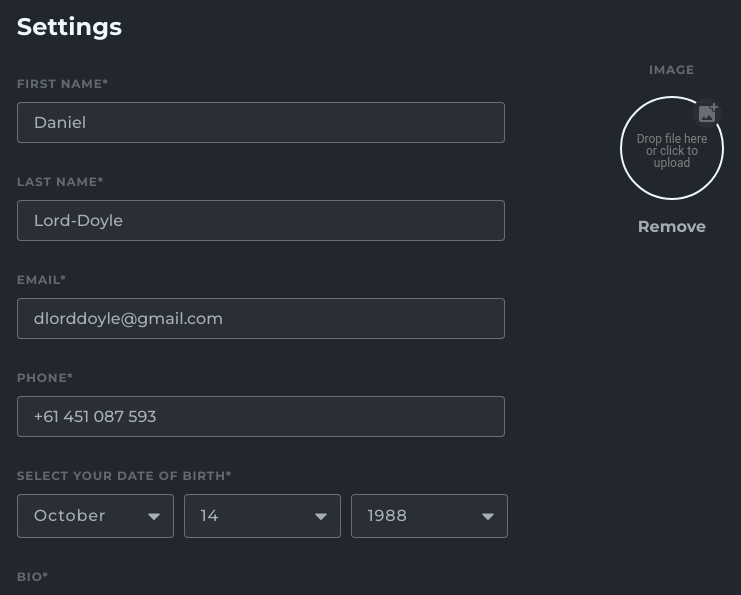
Test: The first name field input › will tell the user the field is required if the user does not put a value in the first name text area
This screenshot has width=741, height=595.
Clear the field named "firstnameinput" at (261, 122), box top-left (17, 102), bottom-right (505, 143)
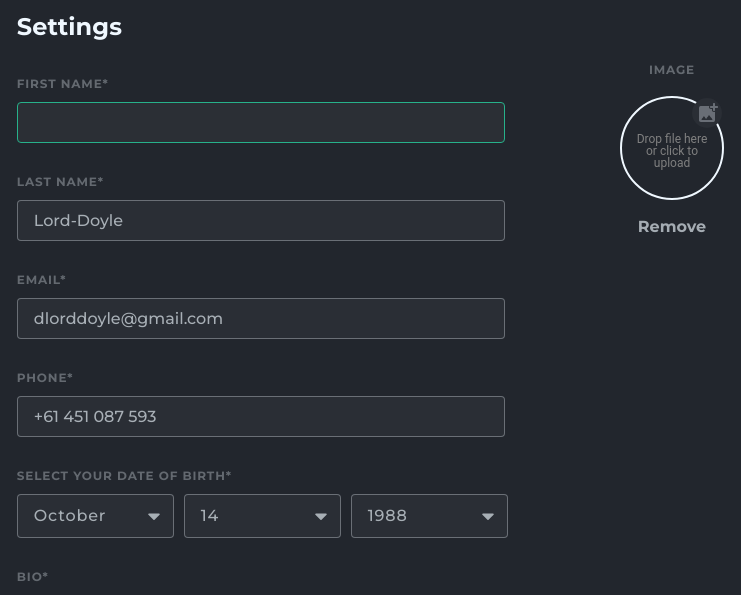
Click the field named "phoneinput" at (261, 416), box top-left (17, 396), bottom-right (505, 437)
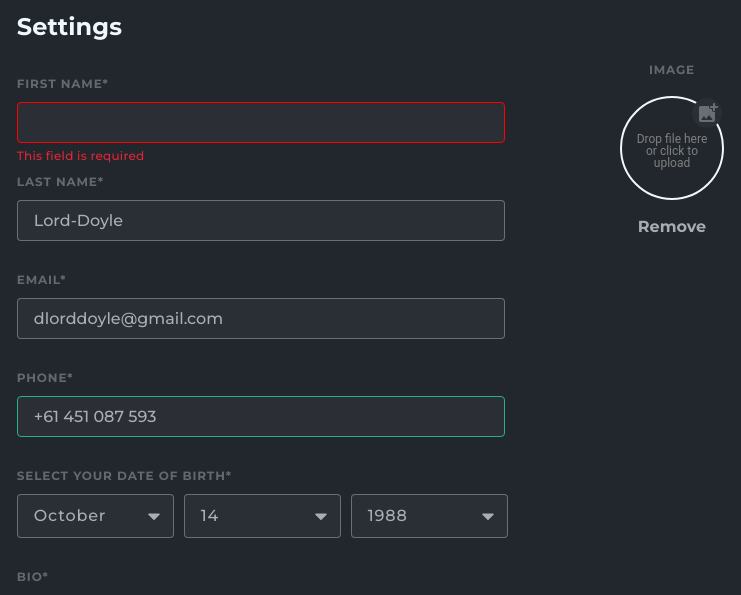
Expected: the text with test id "firstNameErrorMessage" reads "This field is required", top-left (17, 148), bottom-right (144, 163)
